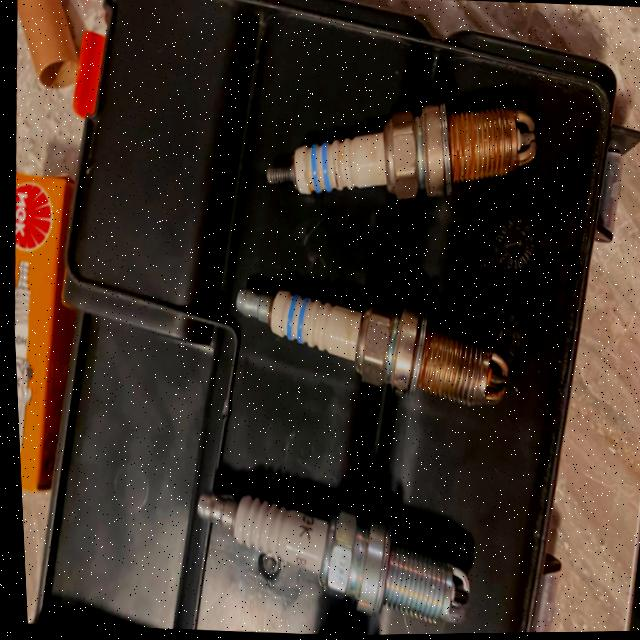spark-plug: (173, 461, 475, 638), (214, 267, 510, 428), (231, 78, 550, 221)
